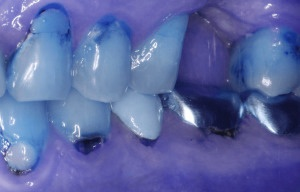karies: (3, 142, 43, 178), (89, 15, 130, 44), (72, 134, 105, 156), (202, 123, 240, 141), (137, 133, 161, 150)
